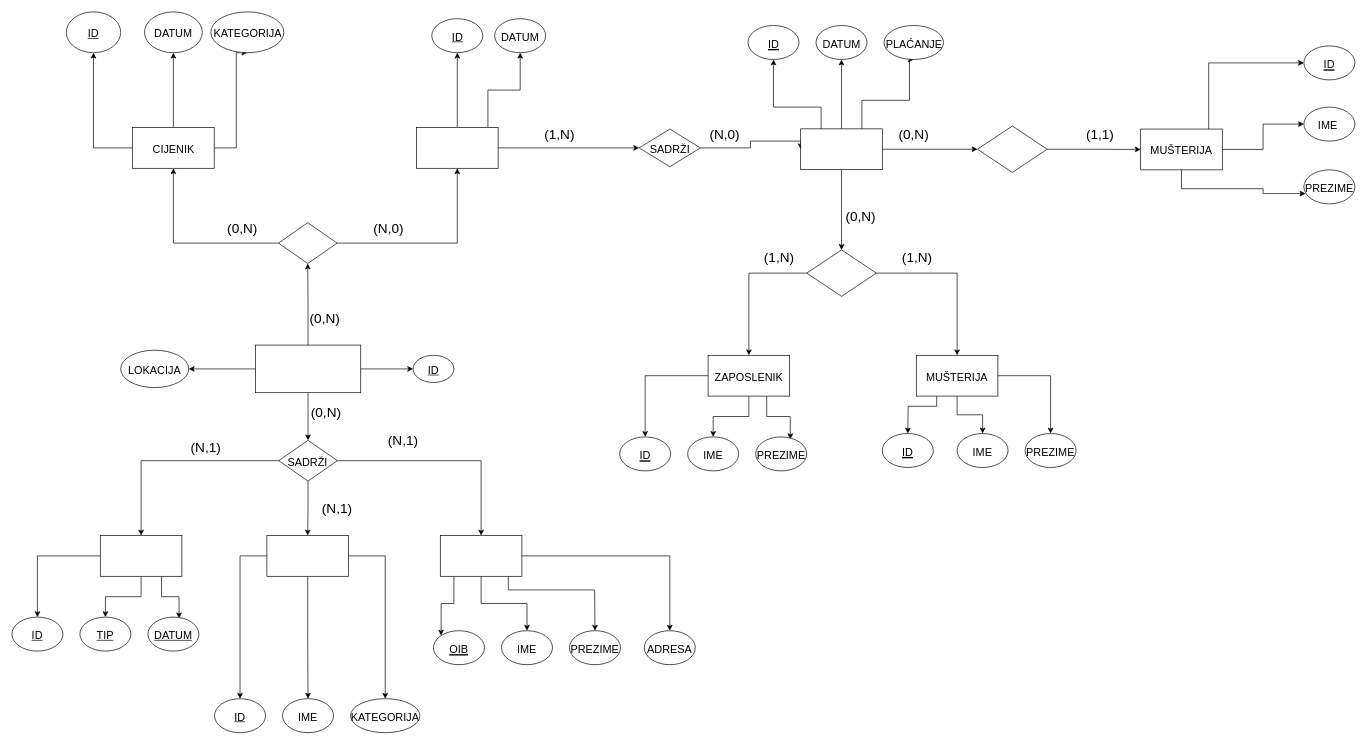
Image size: 1367x745. Some labels were removed from this diagram. Each missing label, with the box of its shape:
DVORANA: (100, 535, 182, 576)
FILM: (266, 535, 348, 576)
IMA: (278, 222, 337, 264)
KINO: (255, 344, 361, 393)
ONLINE: (977, 125, 1047, 172)
RAČUN: (800, 128, 882, 170)
REZRVACIJE: (416, 127, 498, 168)
UŽIVO: (806, 249, 876, 296)
ZAPOSLENICI: (440, 535, 522, 576)
